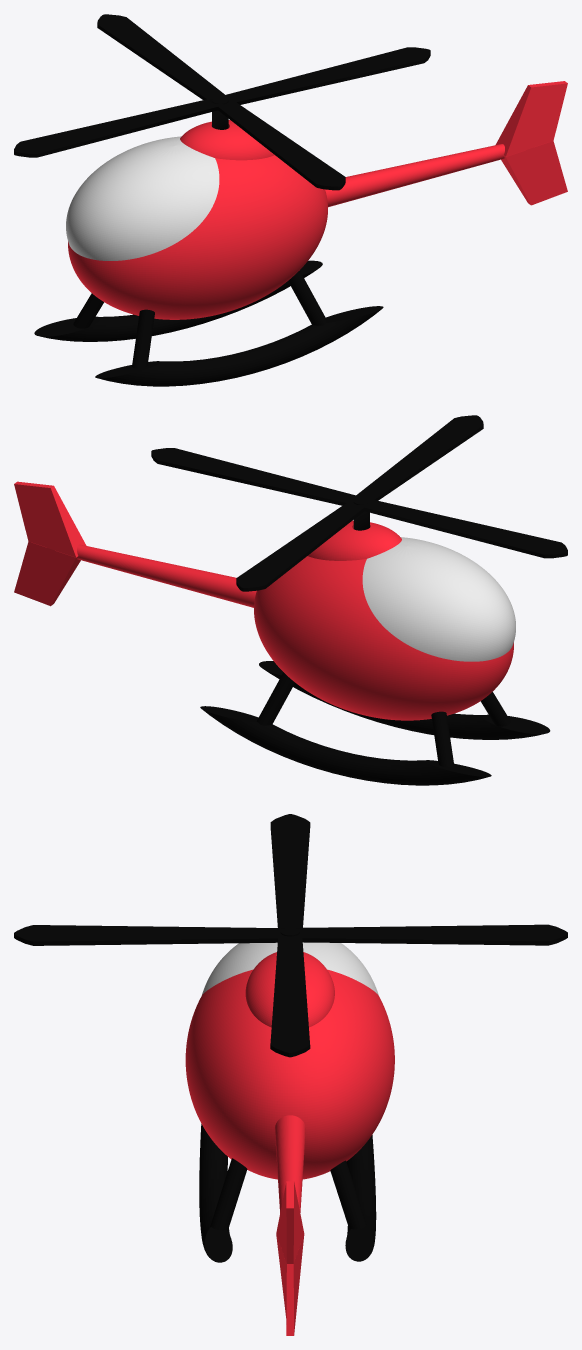
3 views of the same model, one above another, from view 1: azimuth 30°, elevation 25°; view 2: azimuth 150°, elevation 25°; view 3: azimuth 270°, elevation 25° (orthographic). The views are drawn at different scales.
Visible parts, largest first — view 1: Sphere.001, Sphere, Cube.005, Torus.001, Torus.002, Cylinder, Cube, Cube.001, Sphere.002; view 2: Sphere.001, Sphere, Cube.005, Torus.002, Cylinder, Torus.001, Cube, Cube.001, Sphere.002; view 3: Sphere.001, Cube.005, Torus.001, Torus.002, Sphere.002, Sphere, Cylinder, Cube, Cube.001.
Part boxes in pixels (x1,y1,x2,y2): Sphere.001: (68,155,327,319); Sphere: (66,136,219,260); Cube.005: (14,14,430,190); Torus.001: (95,270,383,386); Torus.002: (34,260,322,341); Cylinder: (325,144,504,207); Cube: (495,81,567,156); Cube.001: (501,141,567,205); Sphere.002: (180,120,274,160); Sphere.001: (254,556,513,720); Sphere: (362,537,515,661); Cube.005: (151,415,567,591); Torus.002: (200,672,491,785); Cylinder: (77,544,256,607); Torus.001: (259,661,550,739); Cube: (14,481,86,557); Cube.001: (14,541,80,606); Sphere.002: (308,520,401,560); Sphere.001: (185,969,394,1179); Cube.005: (14,814,567,1057); Torus.001: (199,1124,247,1262); Torus.002: (330,1135,376,1261); Sphere.002: (245,952,334,1027); Sphere: (202,942,378,995); Cylinder: (274,1115,305,1212); Cube: (276,1181,304,1263); Cube.001: (276,1234,304,1335).
Size of the model in its own units: 819 by 352 by 605.
